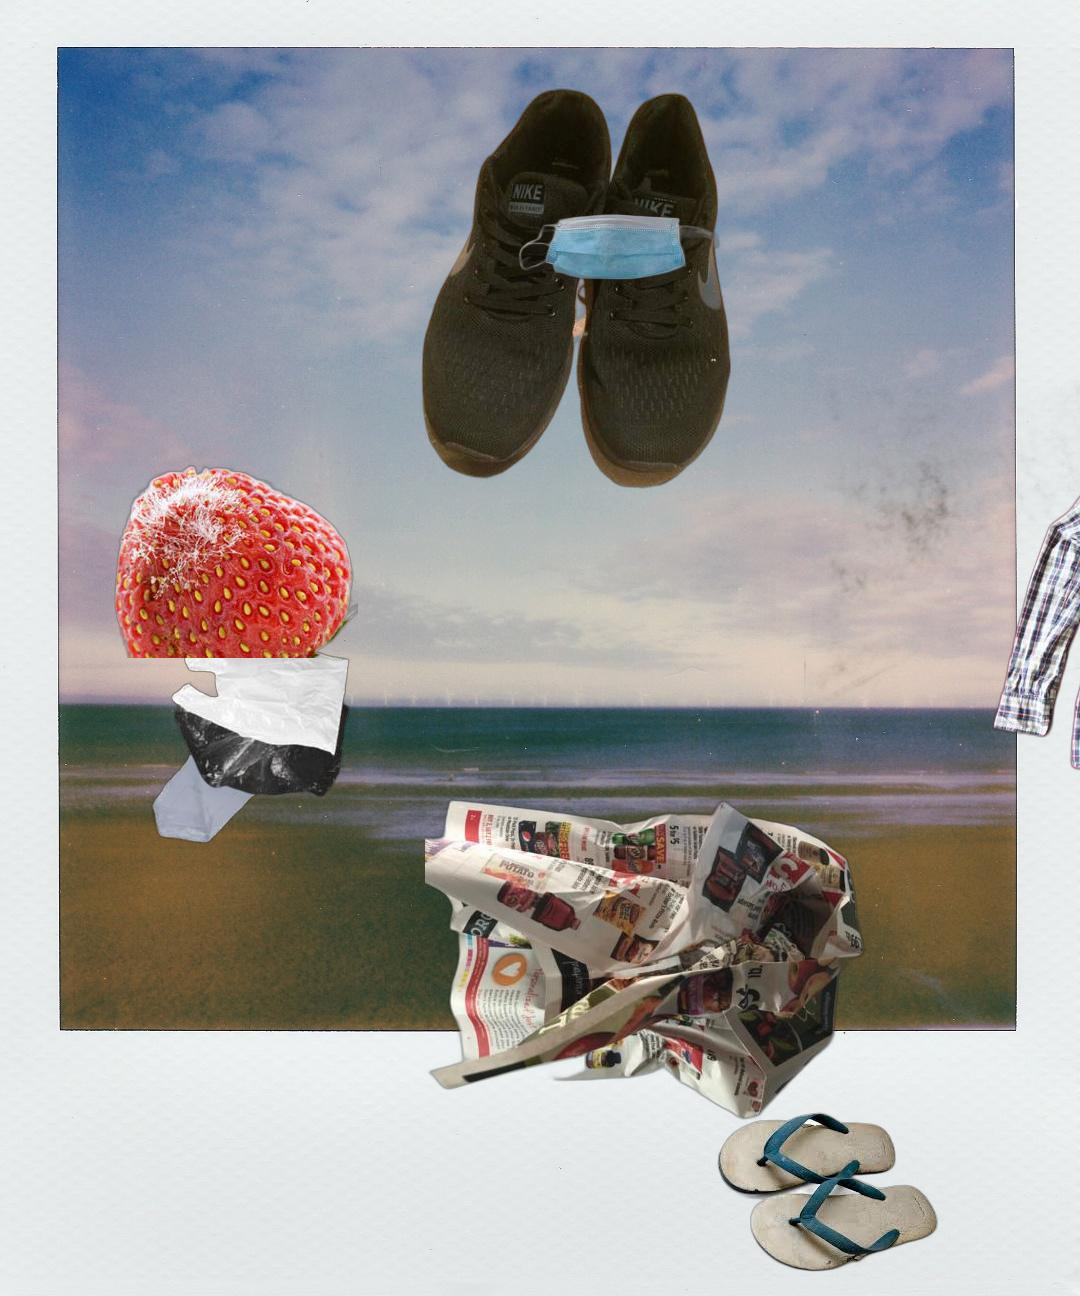biological: (112, 464, 357, 658)
clothes: (988, 442, 1080, 792)
paper: (425, 797, 868, 1123)
plastic-bag: (149, 643, 352, 845)
shoes: (419, 85, 734, 492), (715, 1110, 944, 1274)
trash: (515, 211, 723, 283)
trashbox-cardboard: (804, 334, 1080, 718)
